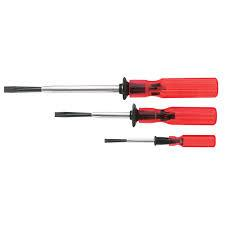screwdriver: (2, 75, 218, 97), (52, 102, 216, 125), (103, 133, 215, 147)
